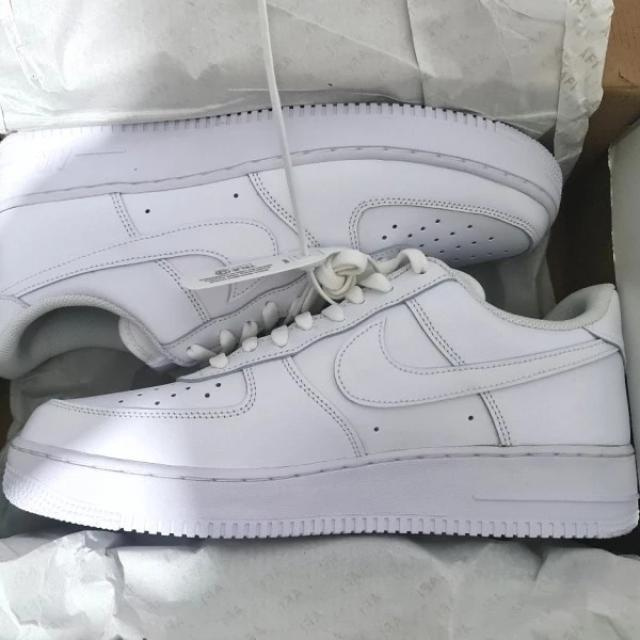nike original air force: (0, 258, 640, 546), (0, 100, 567, 382)
